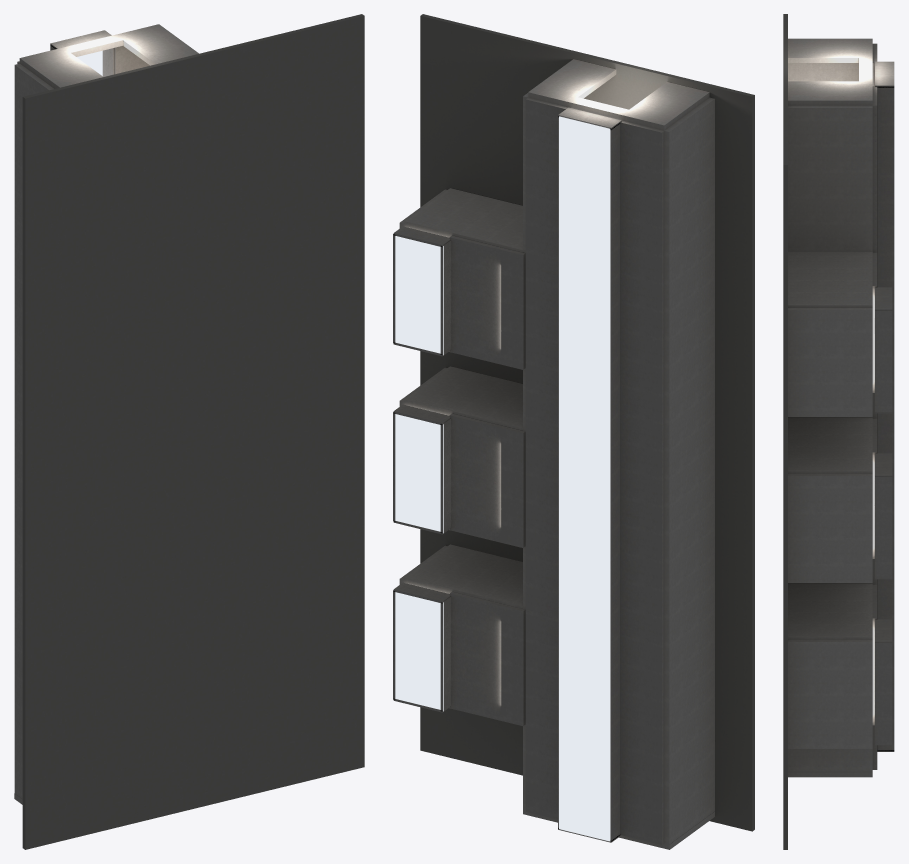
The model's file is hall.glb.
3 views of the same model, side by side, from view 1: azimuth 30°, elevation 25°; view 2: azimuth 150°, elevation 25°; view 3: azimuth 270°, elevation 25° (orthographic). The views are drawn at different scales.
Visible parts, largest first — view 1: Architecture_floor, Architecture_plaster, Architecture_ceiling; view 2: Architecture_ceiling, Architecture_floor, Architecture_plaster, Sky_hall, Sky_room_02, Sky_room_01, Sky_room_03; view 3: Architecture_plaster, Architecture_ceiling, Architecture_floor, Sky_hall.
Part boxes in pixels (x1=…): Architecture_floor: x1=22, y1=14, x2=364, y2=849; Architecture_plaster: x1=14, y1=24, x2=198, y2=804; Architecture_ceiling: x1=17, y1=30, x2=149, y2=76; Architecture_ceiling: x1=393, y1=97, x2=664, y2=844; Architecture_floor: x1=420, y1=14, x2=754, y2=831; Architecture_plaster: x1=399, y1=59, x2=714, y2=849; Sky_hall: x1=559, y1=116, x2=610, y2=841; Sky_room_02: x1=395, y1=414, x2=443, y2=533; Sky_room_01: x1=395, y1=236, x2=443, y2=355; Sky_room_03: x1=395, y1=592, x2=443, y2=711; Architecture_plaster: x1=788, y1=38, x2=872, y2=777; Architecture_ceiling: x1=872, y1=43, x2=894, y2=769; Architecture_floor: x1=783, y1=14, x2=787, y2=849; Sky_hall: x1=894, y1=63, x2=894, y2=750.
Bounding box in the file's own units: 15.6 × 33 × 4.85.
Materials: 12 (11 with a texture image).
